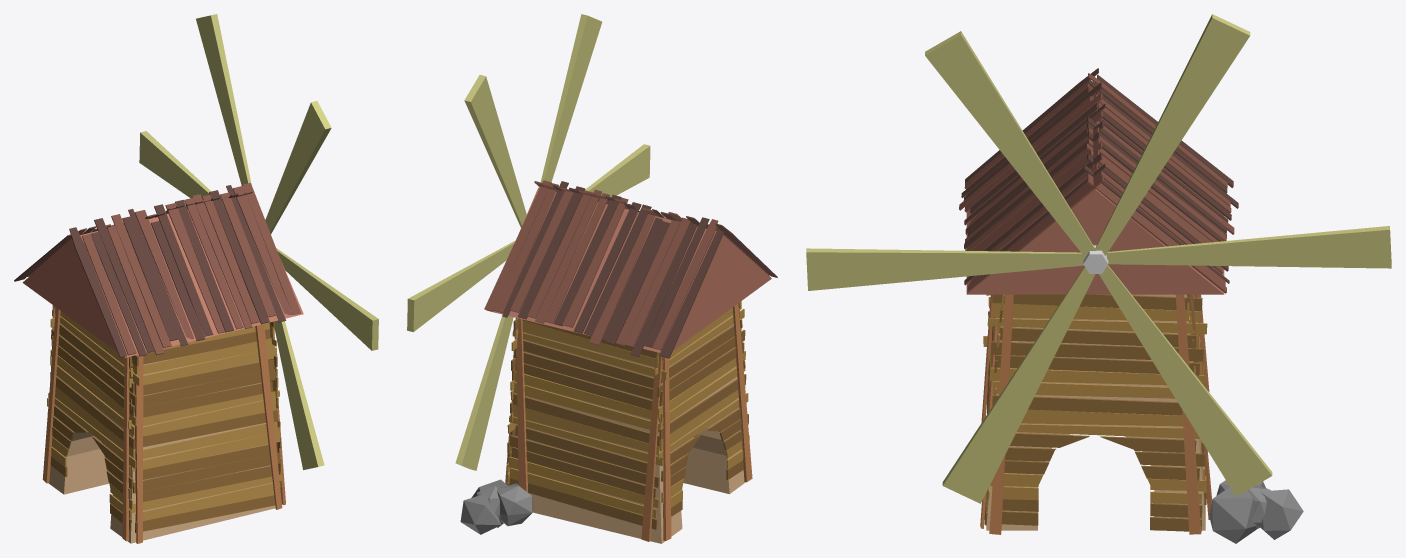
File: windmill.dae
The picture shows the model from 3 angles, left to right: view 1: azimuth 30°, elevation 25°; view 2: azimuth 150°, elevation 25°; view 3: azimuth 270°, elevation 25°; orthographic projection. The views are drawn at different scales.
Visible parts, largest first — view 1: Cylinder, Body, Blade.002, Blade.003, Blade.004, Blade, Blade.001, slat.019, slat.007, slat, slat.004, slat.006 (+49 smaller); view 2: Body, Cylinder, Blade.002, Blade.003, Blade.001, Blade.005, Blade.004, slat.066, slat.071, slat.078, slat.067, slat.079 (+50 smaller); view 3: Cylinder, Blade.001, Blade.004, Blade.002, Blade.005, Blade.003, Blade, Body, slat.105, Icosphere.001, slat.106, slat.104 (+35 smaller).
Boxes of the visible parts, x1,y1,x2,y2 form: Cylinder: (22,201,303,357); Body: (49,316,275,543); Blade.002: (196,14,251,185); Blade.003: (265,101,331,233); Blade.004: (276,248,378,350); Blade: (274,320,324,470); Blade.001: (139,131,211,198); slat.019: (255,324,282,509); slat.007: (133,452,280,493); slat: (135,495,275,532); slat.004: (135,483,274,521); slat.006: (143,466,271,501); Body: (515,315,745,543); Cylinder: (486,187,771,352); Blade.002: (464,75,526,227); Blade.003: (539,14,602,187); Blade.001: (407,240,515,332); Blade.005: (455,315,513,470); Blade.004: (585,144,650,197); slat.066: (641,353,662,541); slat.071: (509,435,659,487); slat.078: (513,350,662,401); slat.067: (512,393,660,446); slat.079: (523,340,653,388); Cylinder: (966,82,1224,294); Blade.001: (1106,226,1391,268); Blade.004: (806,248,1084,290); Blade.002: (1095,14,1250,255); Blade.005: (1099,265,1272,496); Blade.003: (925,31,1095,257); Blade: (942,266,1095,503); Body: (986,294,1205,530); slat.105: (992,395,1182,415); Icosphere.001: (1209,480,1265,543); slat.106: (1021,409,1182,426); slat.104: (1175,294,1201,534).
Size of the model in its own units: 2.63 by 5.34 by 5.46.
